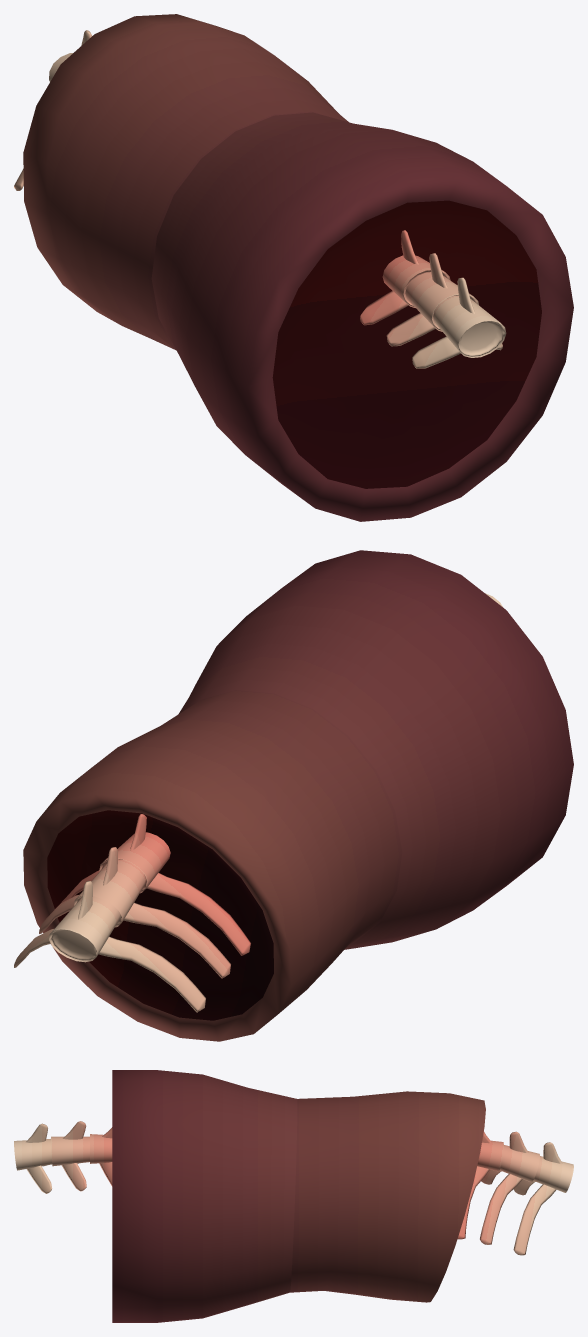
The model's file is Dog_Heart_Source_Adjusted.fbx.
The picture shows the model from 3 angles, top to bottom: view 1: azimuth 30°, elevation 25°; view 2: azimuth 150°, elevation 25°; view 3: azimuth 270°, elevation 25°; orthographic projection. The views are drawn at different scales.
Visible parts, largest first — view 1: Dog_Heart_Source_Adjusted; view 2: Dog_Heart_Source_Adjusted; view 3: Dog_Heart_Source_Adjusted.
Part boxes in pixels (<box>): Dog_Heart_Source_Adjusted: <box>14,14,573,521</box>; Dog_Heart_Source_Adjusted: <box>14,550,573,1041</box>; Dog_Heart_Source_Adjusted: <box>14,1070,573,1322</box>.
Bounding box in the file's own units: 36.02 × 35.97 × 79.19.
